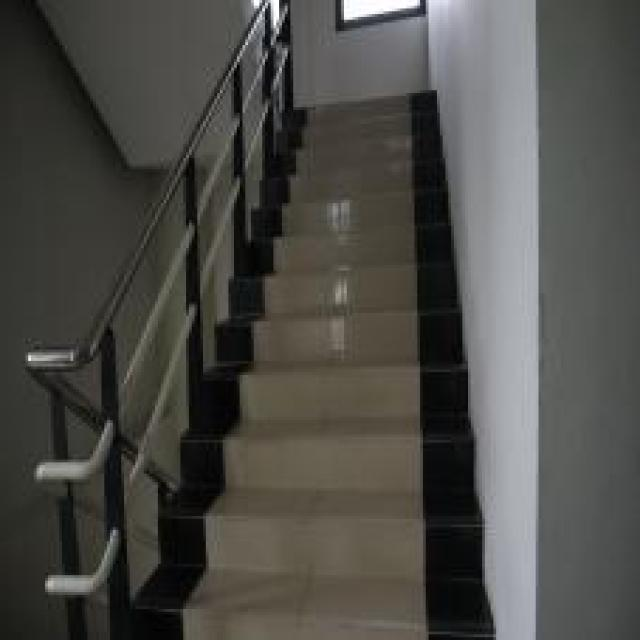upstair: (257, 169, 451, 623)
